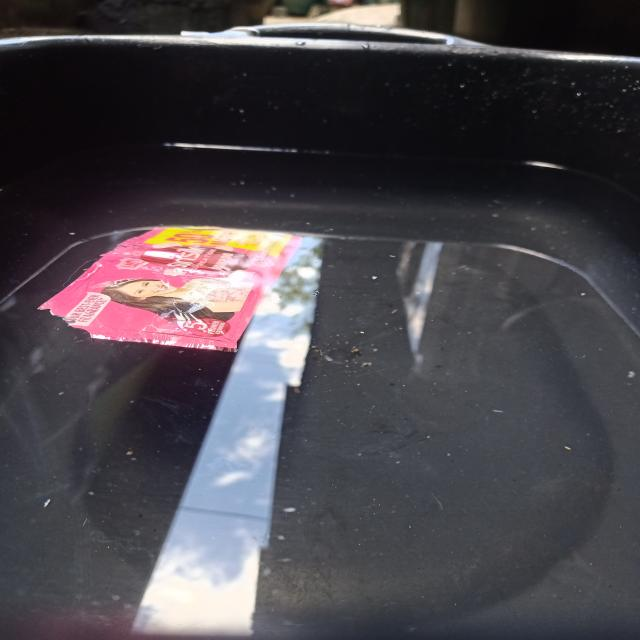Plastic Wrapper: (28, 220, 311, 358)
